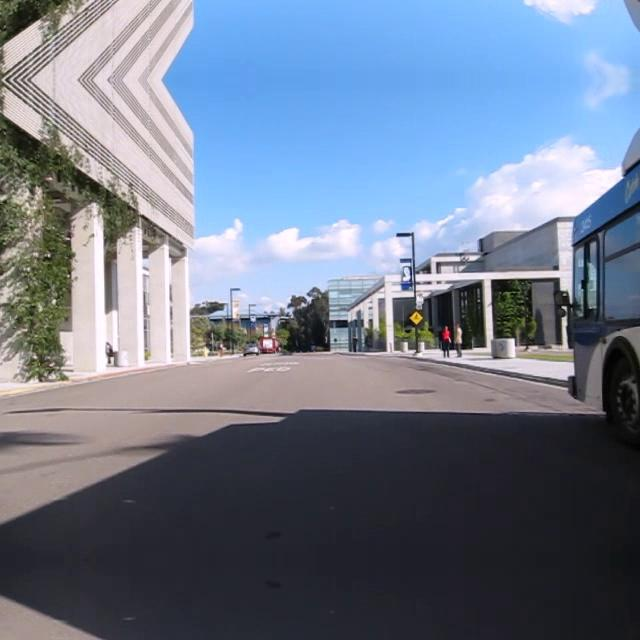pedestrianCrossing: (408, 308, 424, 326)
